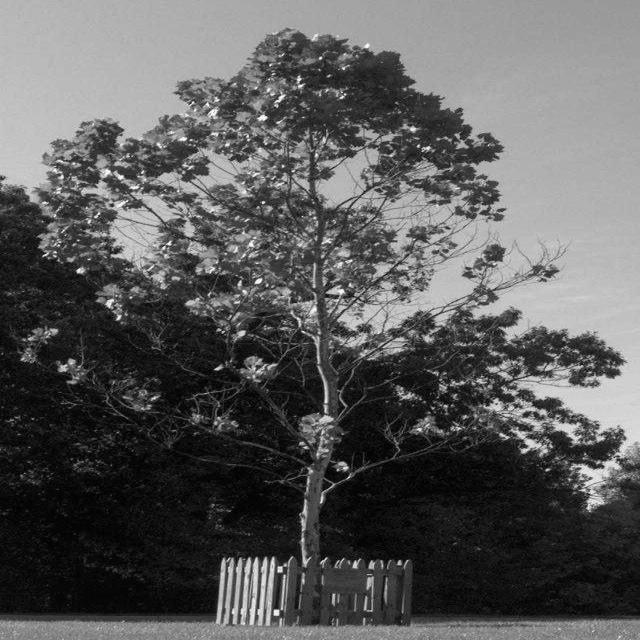Tree: (34, 30, 616, 560)
